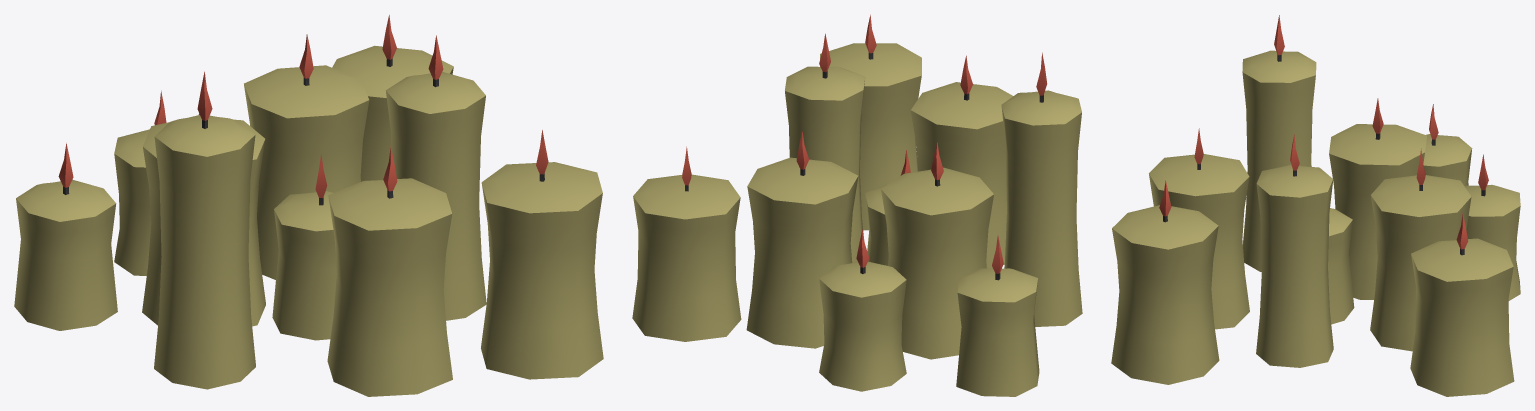
The model's file is Candles_2_GD.glb.
3 views of the same model, side by side, from view 1: azimuth 30°, elevation 25°; view 2: azimuth 150°, elevation 25°; view 3: azimuth 270°, elevation 25° (orthographic). The views are drawn at different scales.
Parts seen in each view (by area): view 1: Candles_2; view 2: Candles_2; view 3: Candles_2.
Boxes of the visible parts, bbox=[...] form: Candles_2: bbox=[14, 15, 603, 396]; Candles_2: bbox=[632, 14, 1082, 396]; Candles_2: bbox=[1111, 15, 1520, 396].
Size of the model in its own units: 7.45 by 4.84 by 7.4.
